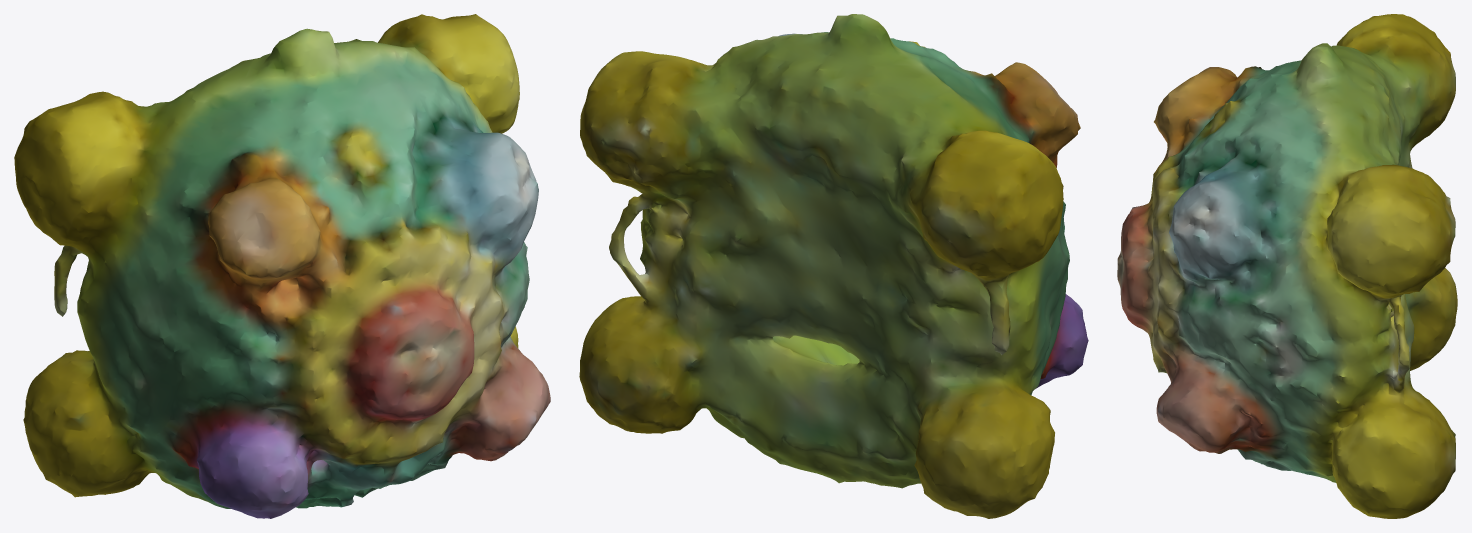
Rendered from turtle.glb.
3 views of the same model, side by side, from view 1: azimuth 30°, elevation 25°; view 2: azimuth 150°, elevation 25°; view 3: azimuth 270°, elevation 25° (orthographic). The views are drawn at different scales.
Size of the model in its own units: 0.9918 by 0.9418 by 0.7072.
